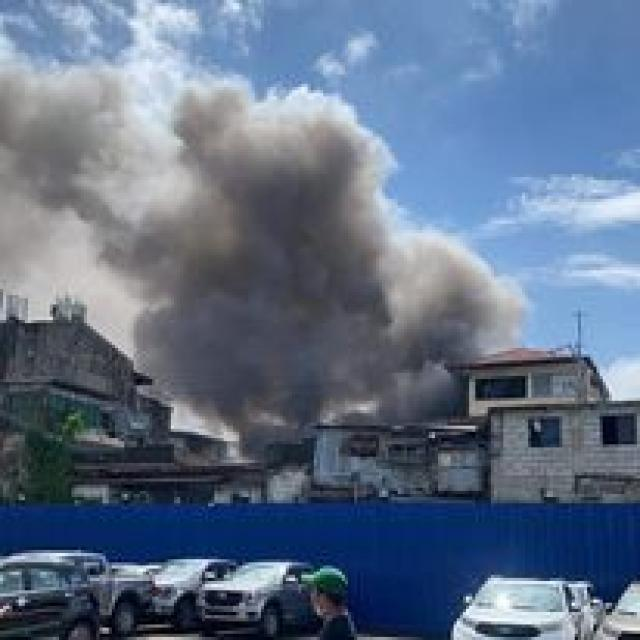Smoke: (188, 102, 472, 400)
